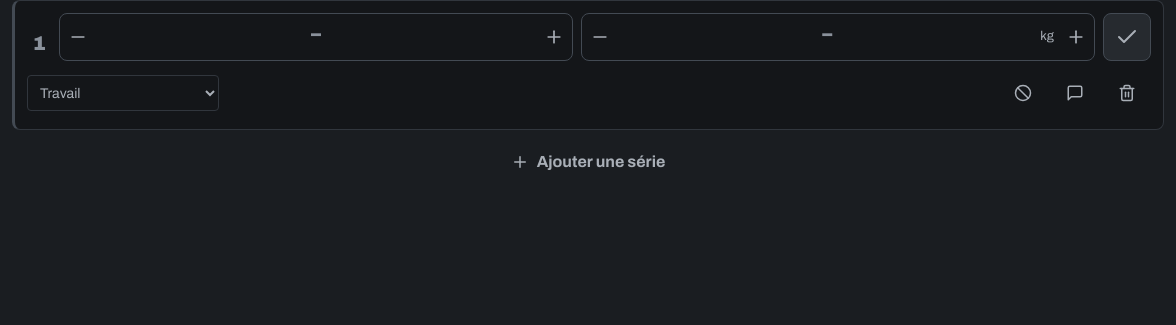
Test case: saisie des séries › ajoute une série pré-remplie avec la précédente
Type "8" into the 1st field with placeholder "–" at coordinates (316, 33), box [96,22,536,44]
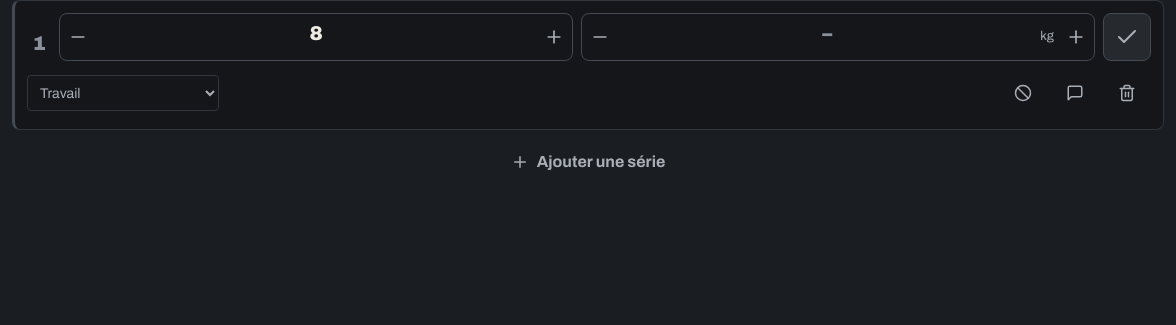
Type "80" into the field with placeholder "–" at coordinates (827, 33), box [618,22,1036,44]
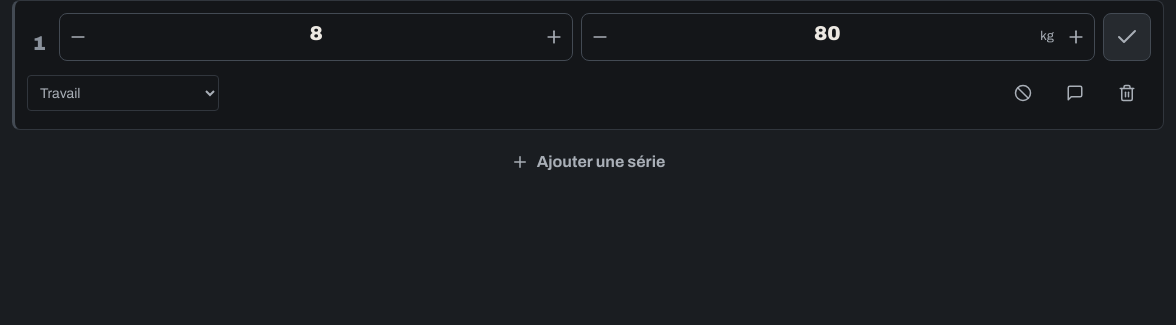
Click the button "Ajouter une série" at coordinates (588, 162), box [12,138,1164,186]
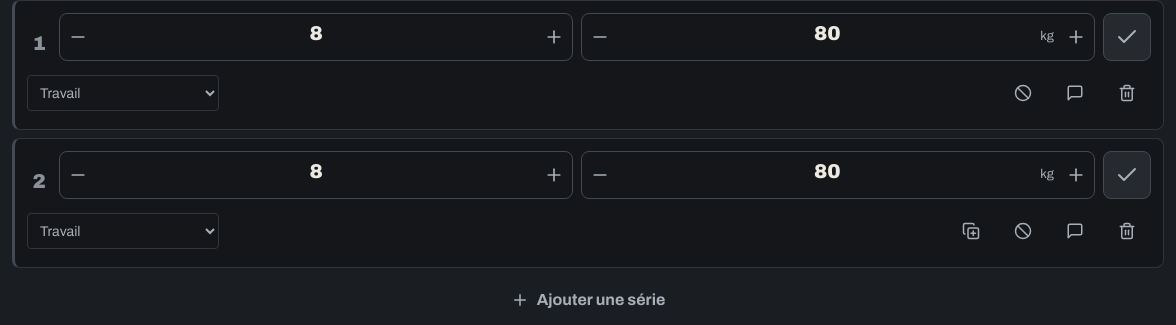
Expected: the number of elements with class "set-row" is 2, [12,0,1164,130]; [12,138,1164,268]
